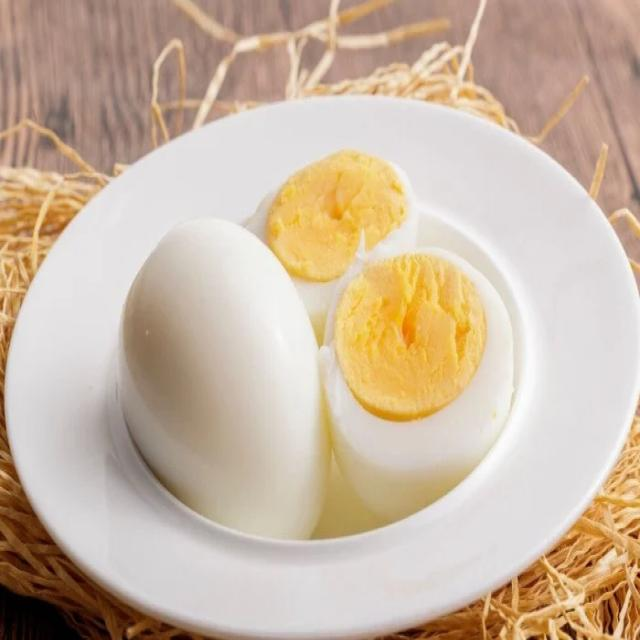trung luoc: (119, 218, 326, 539), (319, 247, 515, 518), (249, 149, 419, 343)
